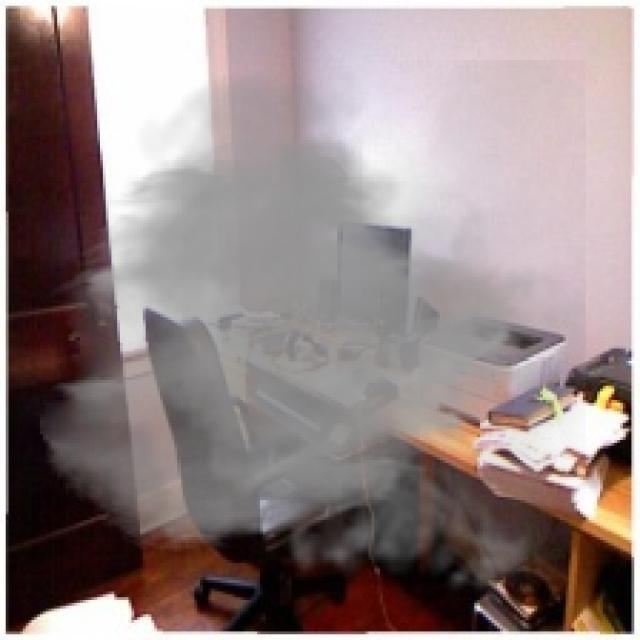Smoke: (34, 60, 586, 609)
